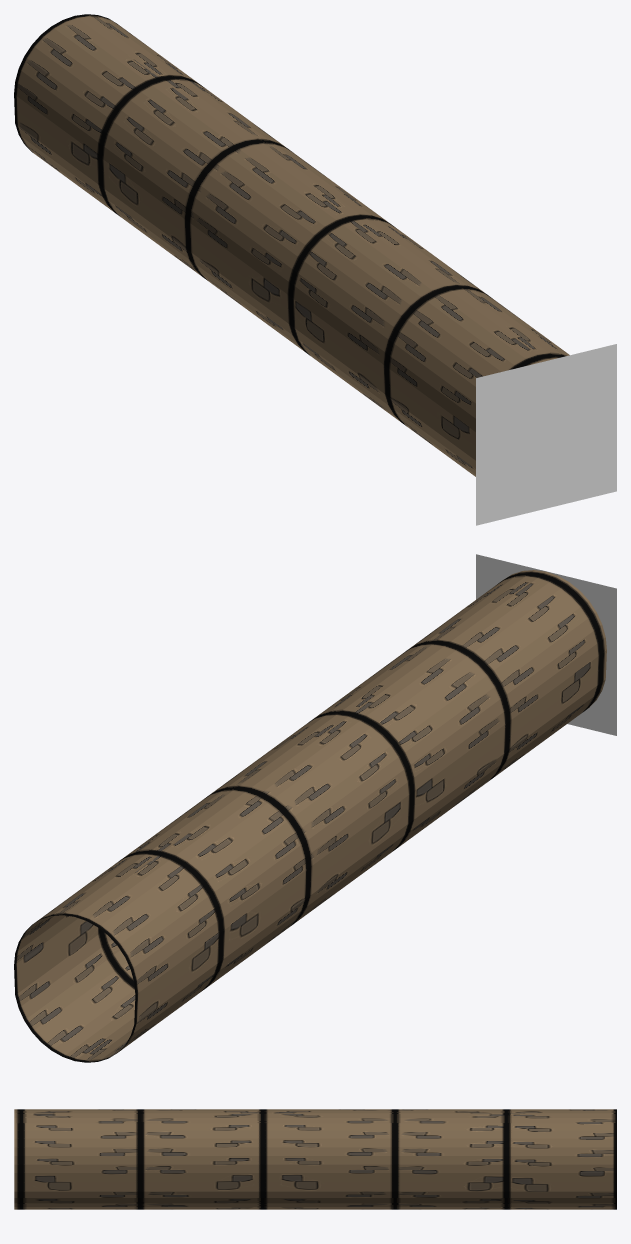
The model's file is Cueva.fbx.
3 renders of one model, top to bottom at view 1: azimuth 30°, elevation 25°; view 2: azimuth 150°, elevation 25°; view 3: azimuth 270°, elevation 25°, orthographic. The views are drawn at different scales.
Parts seen in each view (by area): view 1: Cylinder, Plane; view 2: Cylinder, Plane; view 3: Cylinder.
Part boxes in pixels (x1,y1,x2,y2): Cylinder: (14, 14, 569, 476); Plane: (476, 344, 616, 525); Cylinder: (14, 570, 606, 1062); Plane: (476, 554, 616, 735); Cylinder: (14, 1109, 616, 1209).
Bounding box in the file's own units: 13491 × 13491 × 78174.
